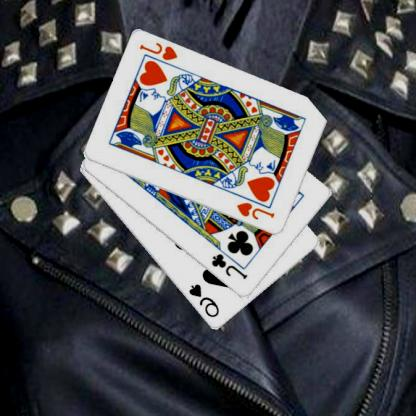9S: (188, 282, 222, 319)
JC: (210, 250, 250, 280)
JH: (236, 200, 278, 222), (139, 40, 181, 62)
